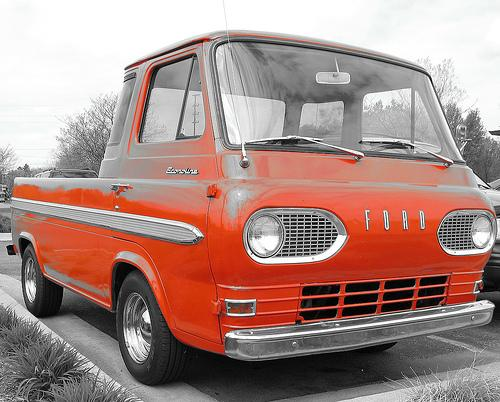truck: (6, 29, 497, 386)
